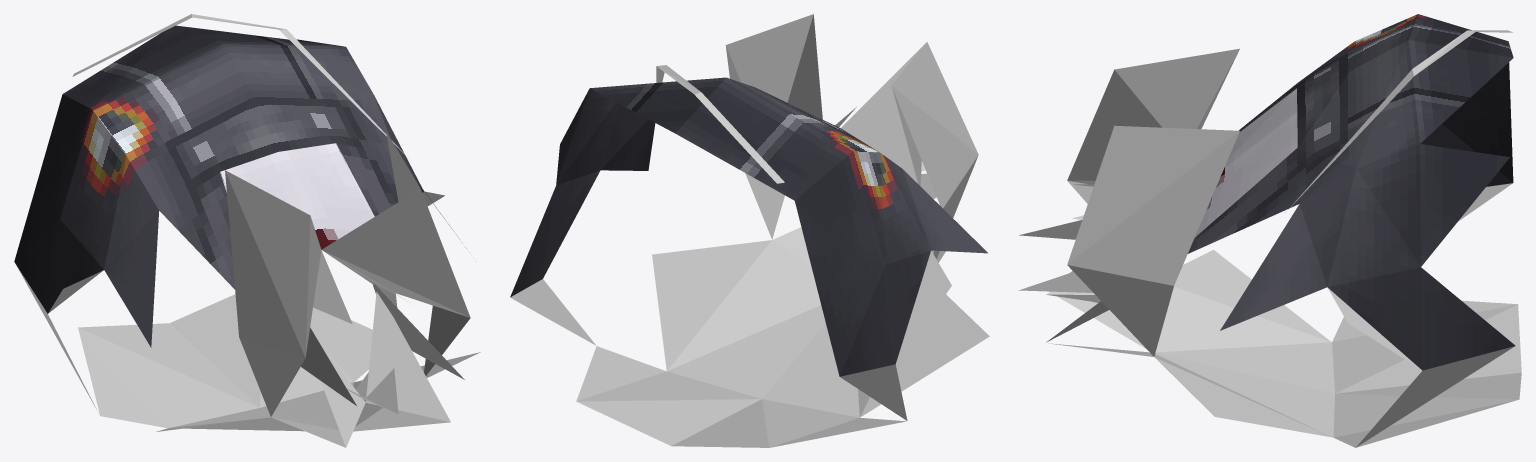
The model's file is character_n7.obj.
3 views of the same model, side by side, from view 1: azimuth 30°, elevation 25°; view 2: azimuth 150°, elevation 25°; view 3: azimuth 270°, elevation 25° (orthographic). The views are drawn at different scales.
Bounding box in the file's own units: 0.2497 × 0.2154 × 0.2722.
